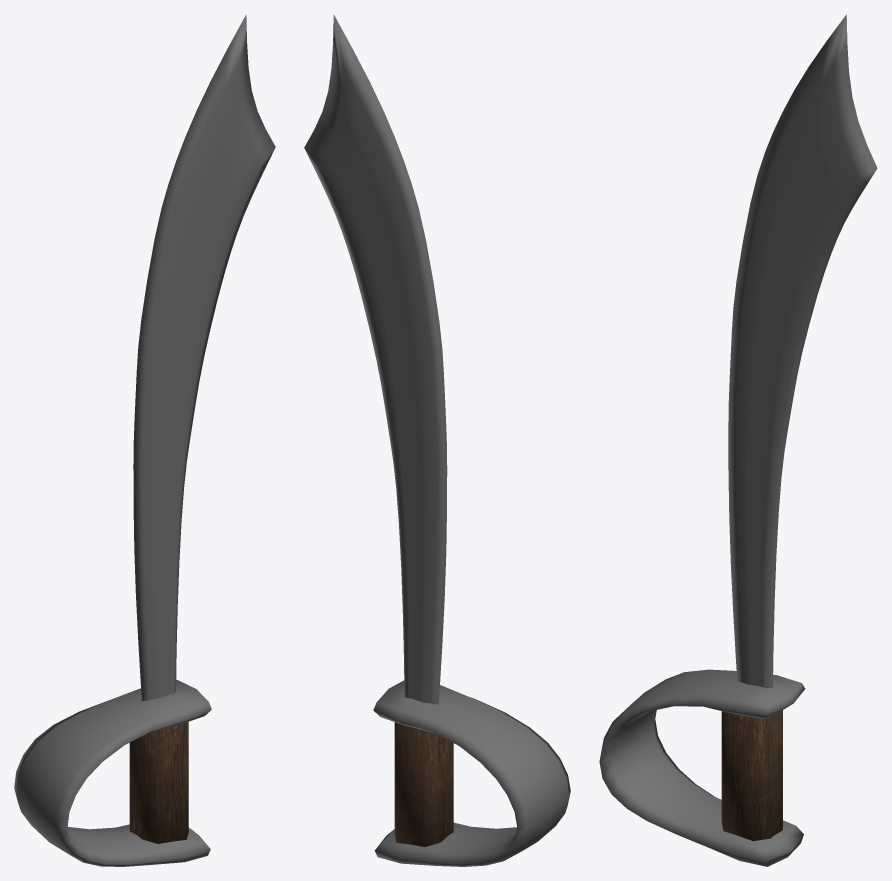
Rendered from sable.fbx.
3 views of the same model, side by side, from view 1: azimuth 30°, elevation 25°; view 2: azimuth 150°, elevation 25°; view 3: azimuth 330°, elevation 25° (orthographic). The views are drawn at different scales.
Visible parts, largest first — view 1: Sable, MangoCurvatura, Mango; view 2: Sable, MangoCurvatura, Mango; view 3: Sable, MangoCurvatura, Mango.
Part boxes in pixels (x1,y1,x2,y2): Sable: (133,14,275,701); MangoCurvatura: (14,680,211,866); Mango: (129,722,188,843); Sable: (304,14,447,704); MangoCurvatura: (373,680,570,866); Mango: (394,722,453,846); Sable: (728,14,877,688); MangoCurvatura: (599,669,805,866); Mango: (721,710,782,841).
Size of the model in its own units: 29.37 by 94.05 by 11.29.
